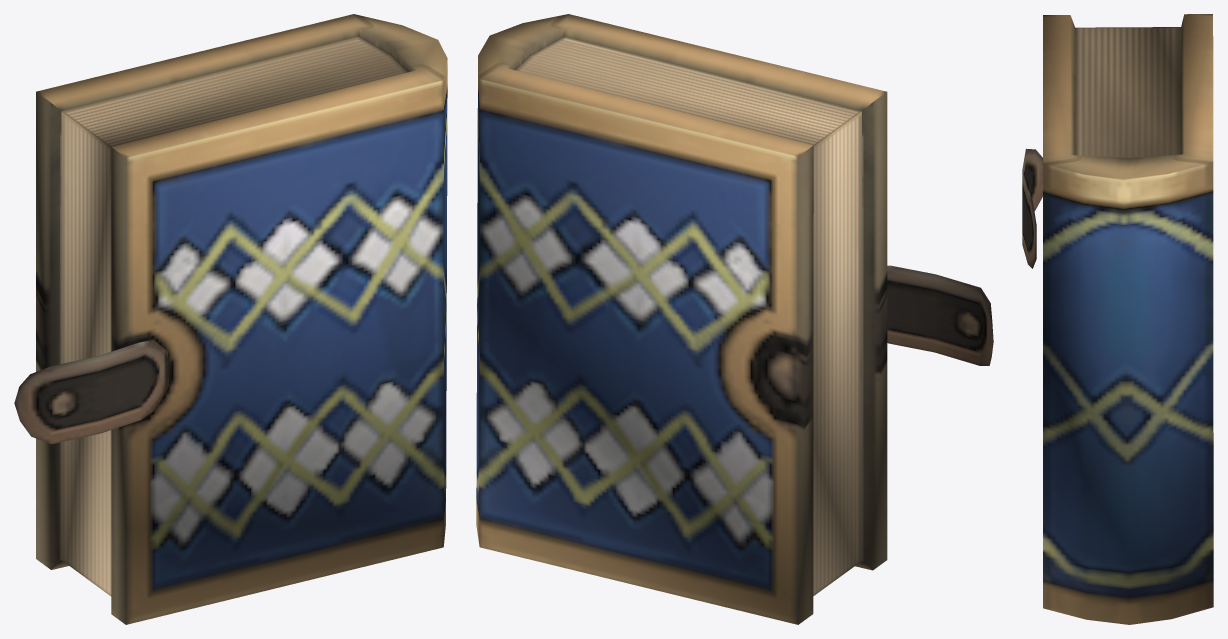
Rendered from wz_shuben9.FBX.
3 views of the same model, side by side, from view 1: azimuth 30°, elevation 25°; view 2: azimuth 150°, elevation 25°; view 3: azimuth 270°, elevation 25° (orthographic). The views are drawn at different scales.
Visible parts, largest first — view 1: wz_shu_07; view 2: wz_shu_07; view 3: wz_shu_07.
Boxes of the visible parts, <box> form: wz_shu_07: <box>14,14,447,624</box>; wz_shu_07: <box>476,14,993,624</box>; wz_shu_07: <box>1022,14,1213,624</box>.
Size of the model in its own units: 1.56 by 1.52 by 0.5831.
